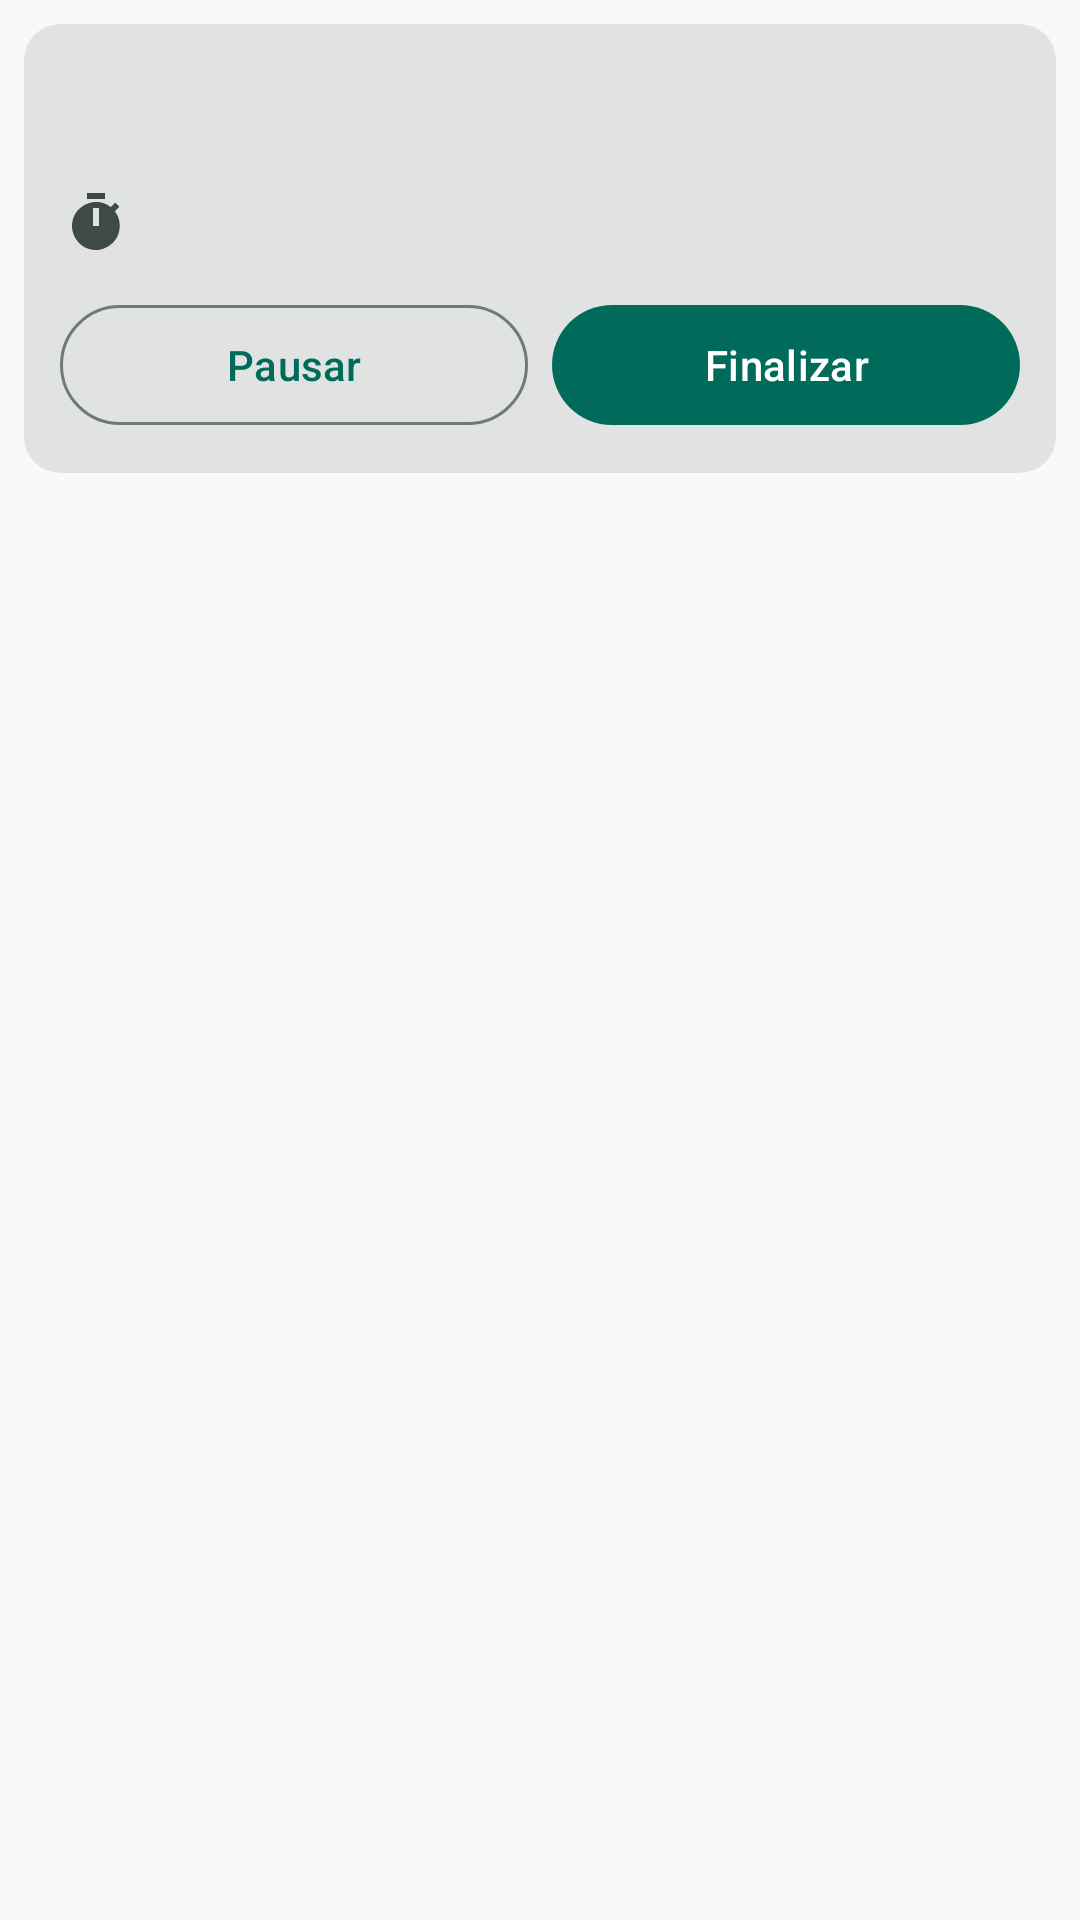

Screen size 1080*1920. Icon name, then its center in pixels as (x=x, y=y):
timer: (x=96, y=221)
